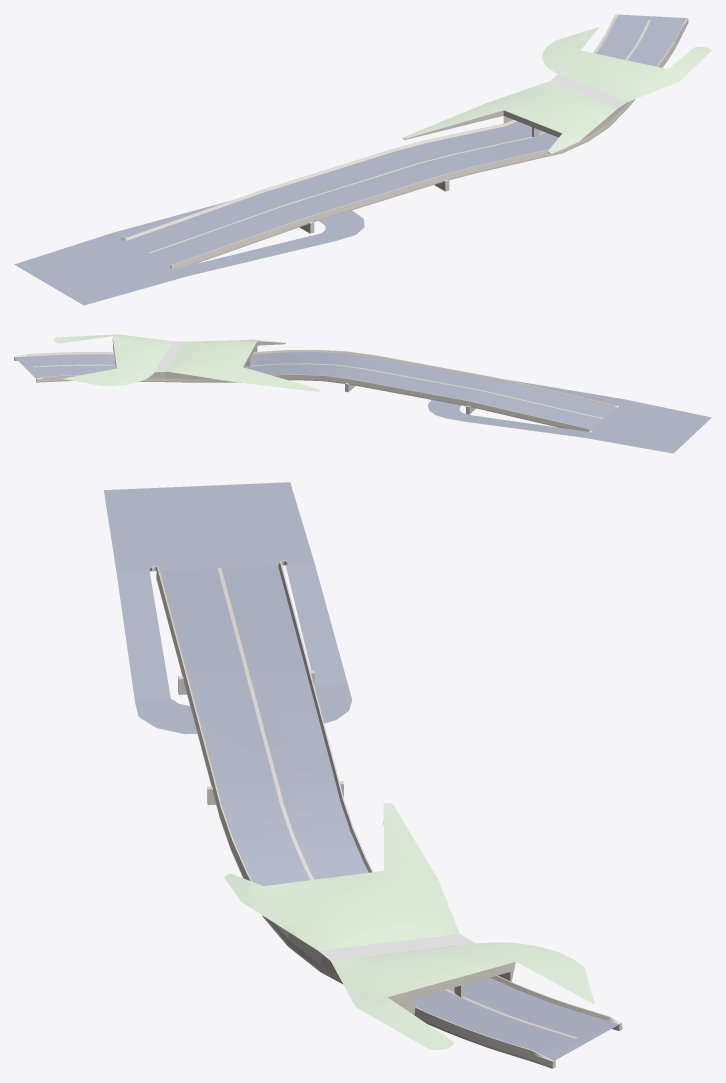
The model's file is Аль-ВОАД-temp.glb.
3 views of the same model, one above another, from view 1: azimuth 30°, elevation 25°; view 2: azimuth 150°, elevation 25°; view 3: azimuth 270°, elevation 25° (orthographic). The views are drawn at different scales.
Parts seen in each view (by area): view 1: group_18, group_22, group_2, group_17; view 2: group_18, group_22, group_2, group_17; view 3: group_18, group_22, group_2, group_17.
Part boxes in pixels (x1,y1,x2,y2): group_18: (14,14,686,305); group_22: (403,27,711,153); group_2: (121,14,688,269); group_17: (551,74,626,107); group_18: (15,352,711,453); group_22: (54,334,319,391); group_2: (14,338,618,432); group_17: (155,341,185,372); group_18: (103,482,621,1060); group_22: (224,803,594,1049); group_2: (149,560,622,1068); group_17: (319,933,475,960).
Size of the model in its own units: 359 by 12 by 136.
